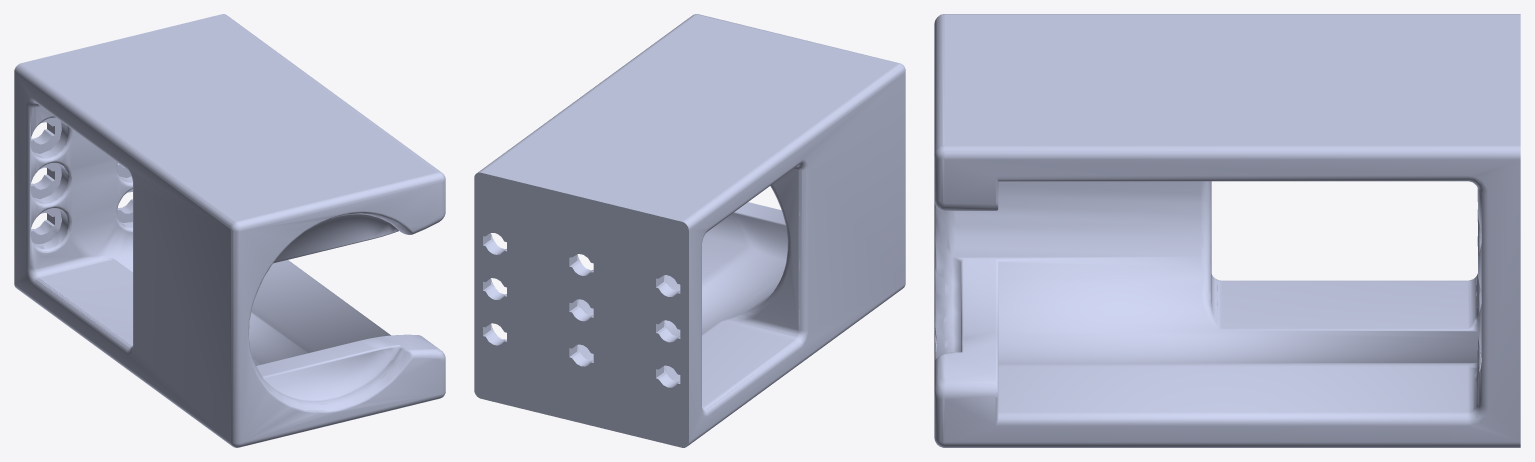
Rendered from rack_stand.glb.
The picture shows the model from 3 angles, left to right: view 1: azimuth 30°, elevation 25°; view 2: azimuth 150°, elevation 25°; view 3: azimuth 270°, elevation 25°; orthographic projection. The views are drawn at different scales.
Parts seen in each view (by area): view 1: g0; view 2: g0; view 3: g0.
Boxes of the visible parts, x1,y1,x2,y2 form: g0: (14, 14, 445, 447); g0: (474, 14, 905, 447); g0: (934, 14, 1520, 447).
Bounding box in the file's own units: 0.062 × 0.0624 × 0.11.
